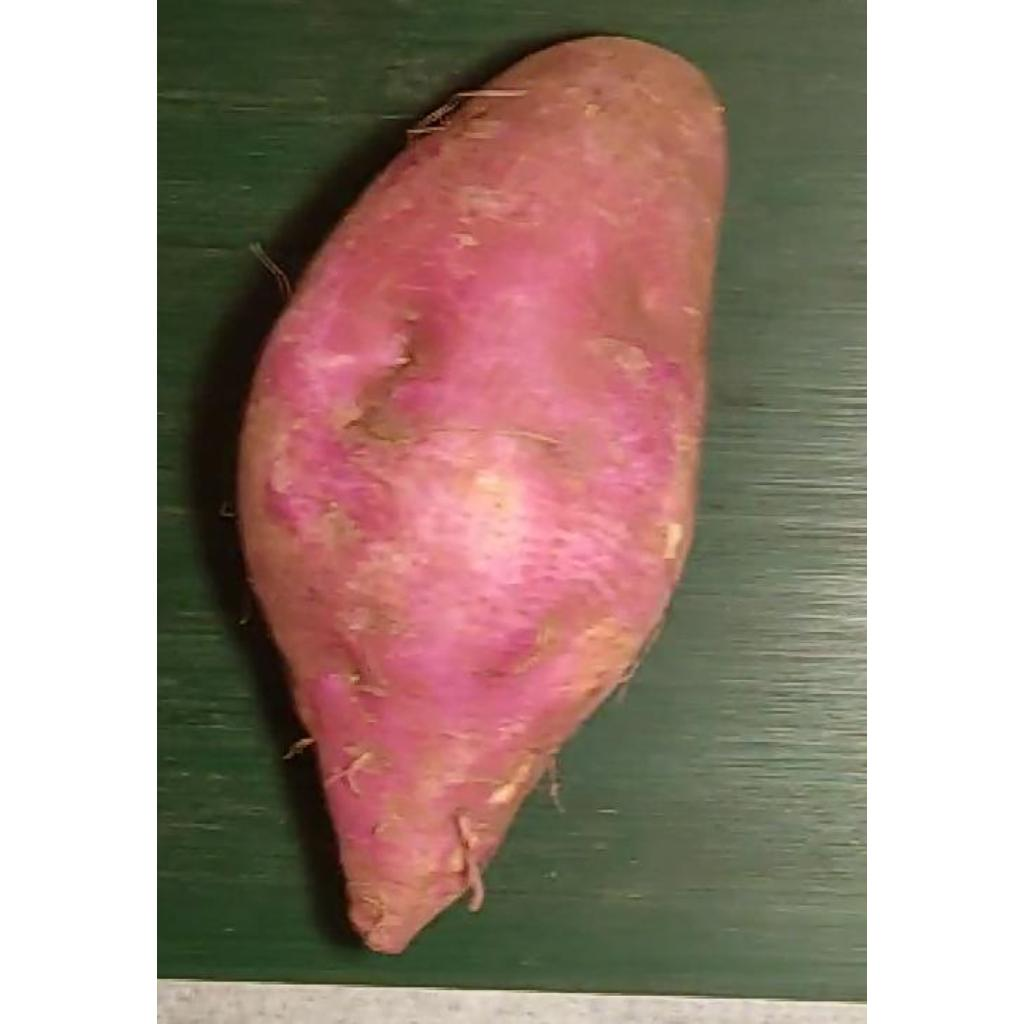Sweet Potato: (239, 34, 731, 959)
